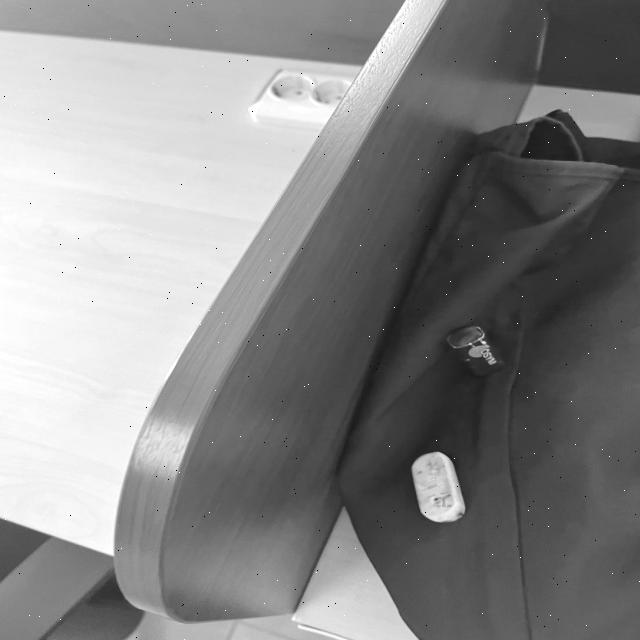eraser: (399, 438, 474, 530), (438, 316, 514, 382)
